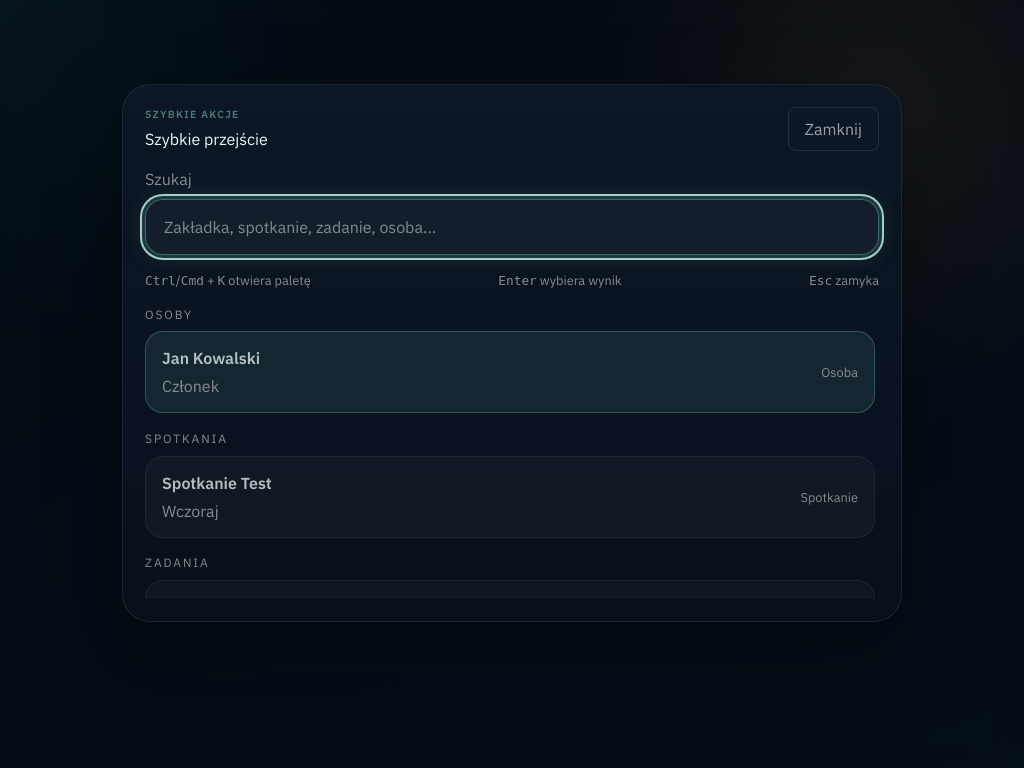
CommandPalette › filters results via input query
Type "Kowalski" into the field with placeholder "Zakładka, spotkanie, zadanie, osoba..." at (512, 227), box [145,199,879,255]
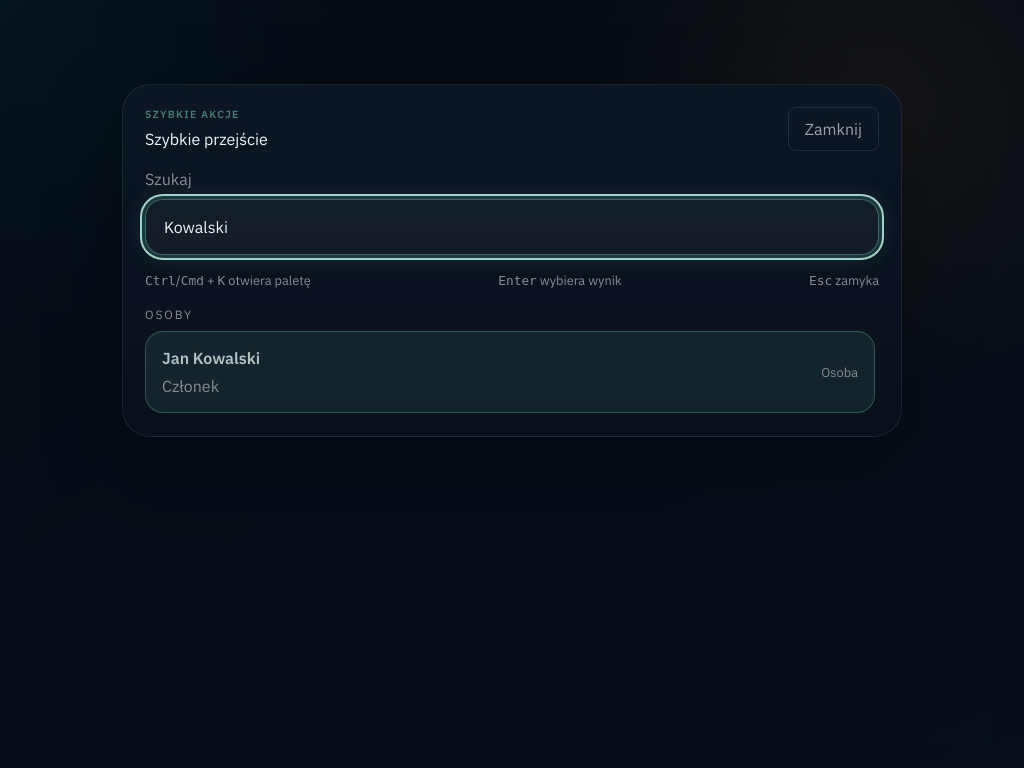
Expected: the text "Jan Kowalski" is shown, [162,346,260,370]
Now the button "Spotkanie Test" is gone
